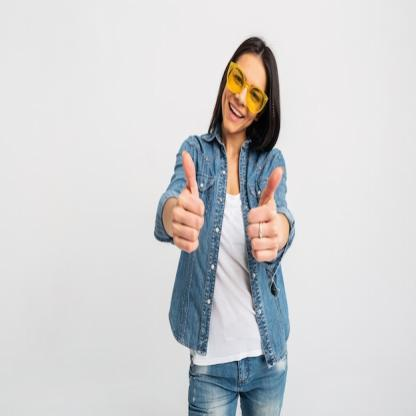thumb_up: (244, 163, 284, 267), (170, 149, 207, 255)
